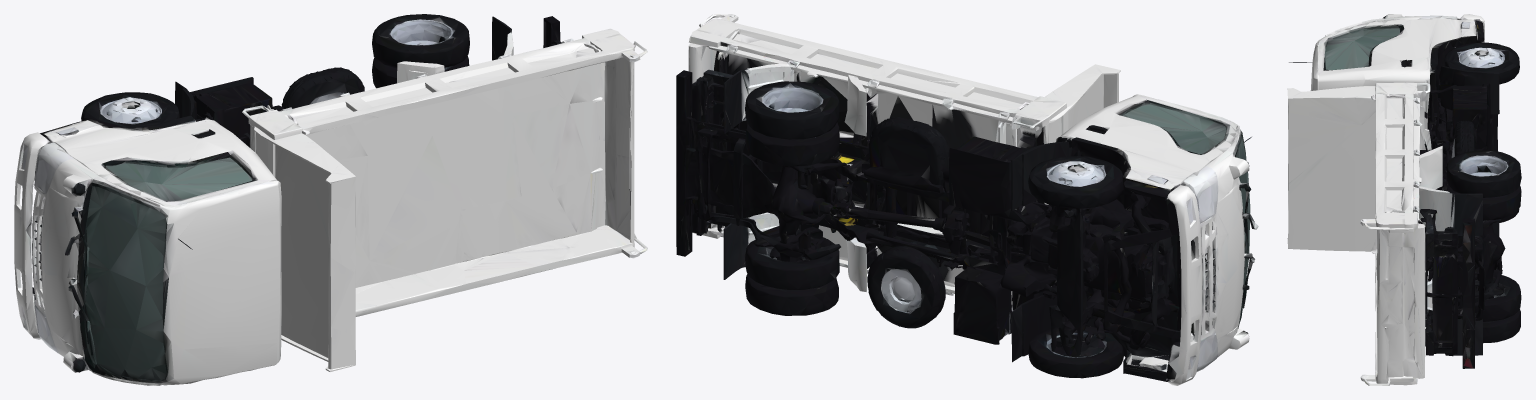
File: truck.glb
The picture shows the model from 3 angles, left to right: view 1: azimuth 30°, elevation 25°; view 2: azimuth 150°, elevation 25°; view 3: azimuth 270°, elevation 25°; orthographic projection. The views are drawn at different scales.
Bounding box in the file's own units: 1.9 × 0.6592 × 0.8466.
Materials: 1 (1 with a texture image).
